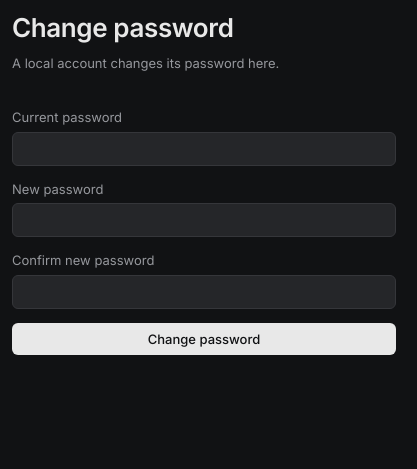
Test case: PasswordChange › shows a wrong current password as sent
The width and height of the screenshot is (417, 469).
In the password field labelled "Current password": (204, 148) [12,132,396,166], type "old-password-1"
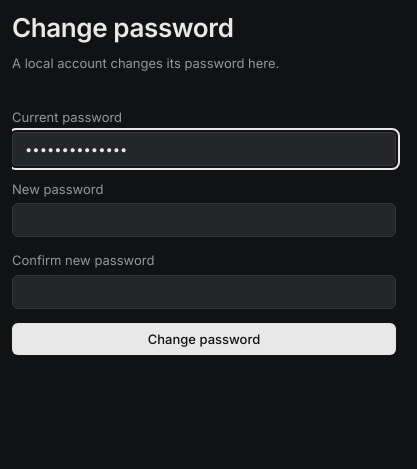
In the password field labelled "New password": (204, 220) [12,203,396,237], type "new-password-1"
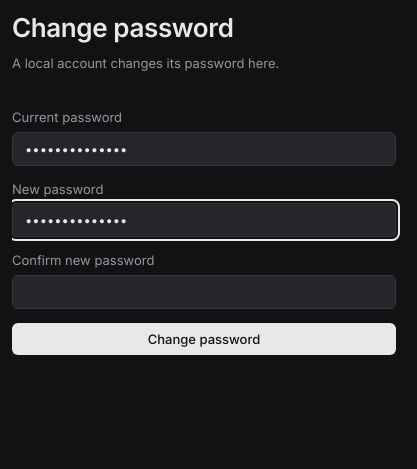
In the password field labelled "Confirm new password": (204, 292) [12,274,396,308], type "new-password-1"
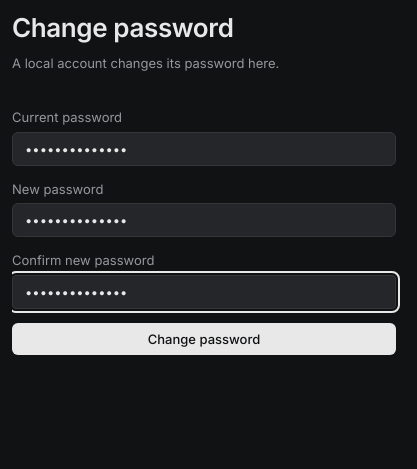
Click the button "Change password": (204, 338) [12,322,396,354]
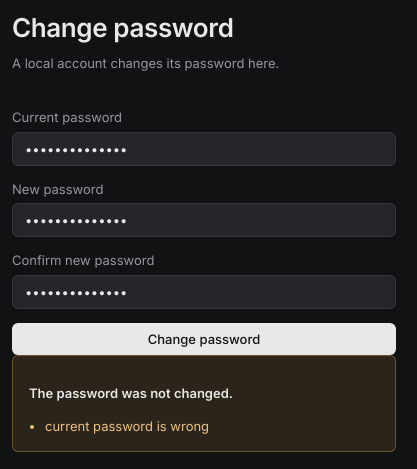
Now the message shows "current password is wrong", box [45,418,209,434]
